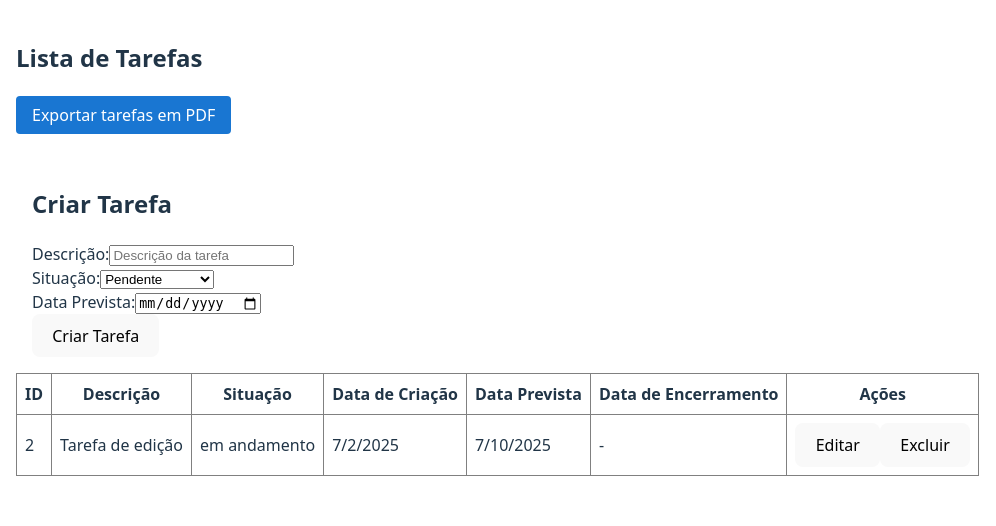
TarefaList › deve entrar em modo de edição ao clicar em "Editar"
Click the button "Editar". click: (838, 445)
box: left=796, top=423, right=880, bottom=467
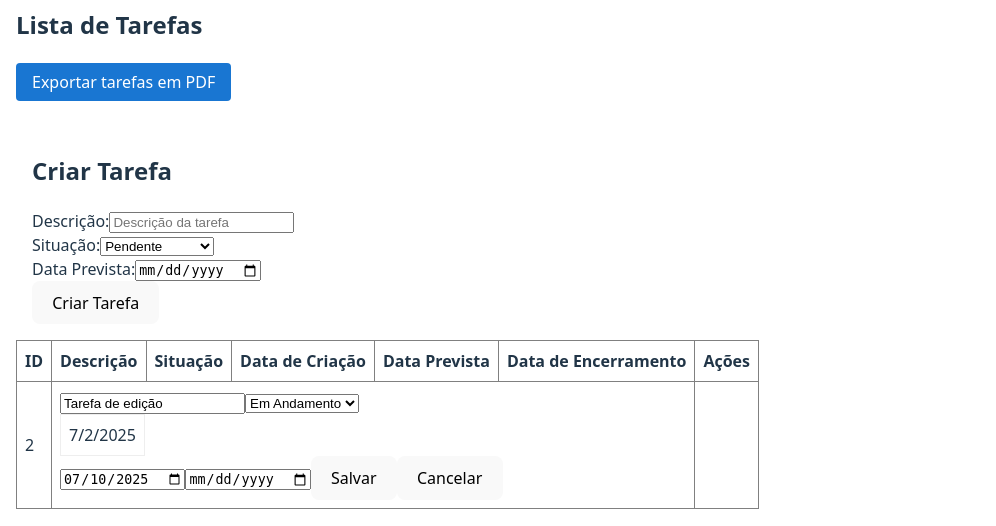
Now the field showing "Tarefa de edição" is shown, box left=60, top=393, right=245, bottom=414
Now the button "Salvar" is shown, box left=311, top=456, right=397, bottom=500
Now the button "Cancelar" is shown, box left=397, top=456, right=502, bottom=500
